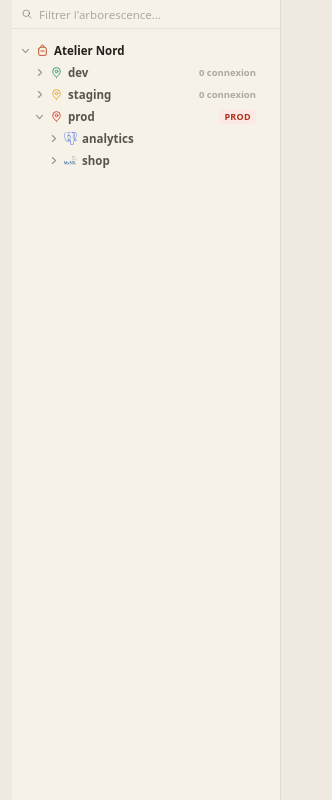
Test case: un filtre sans résultat le dit
The image size is (332, 800).
Step 1. Type "zzz" into the field labelled "Filtrer l'arborescence…" → point(155, 14), box 39,6 -> 271,22
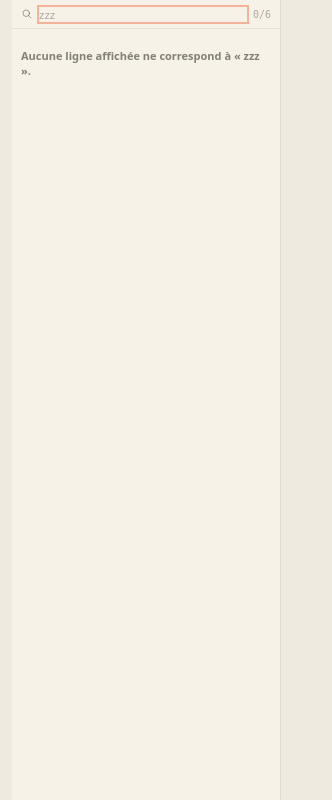
Expected: the text "Aucune ligne affichée ne correspond à « zzz »." is shown, 12,39 -> 280,87
